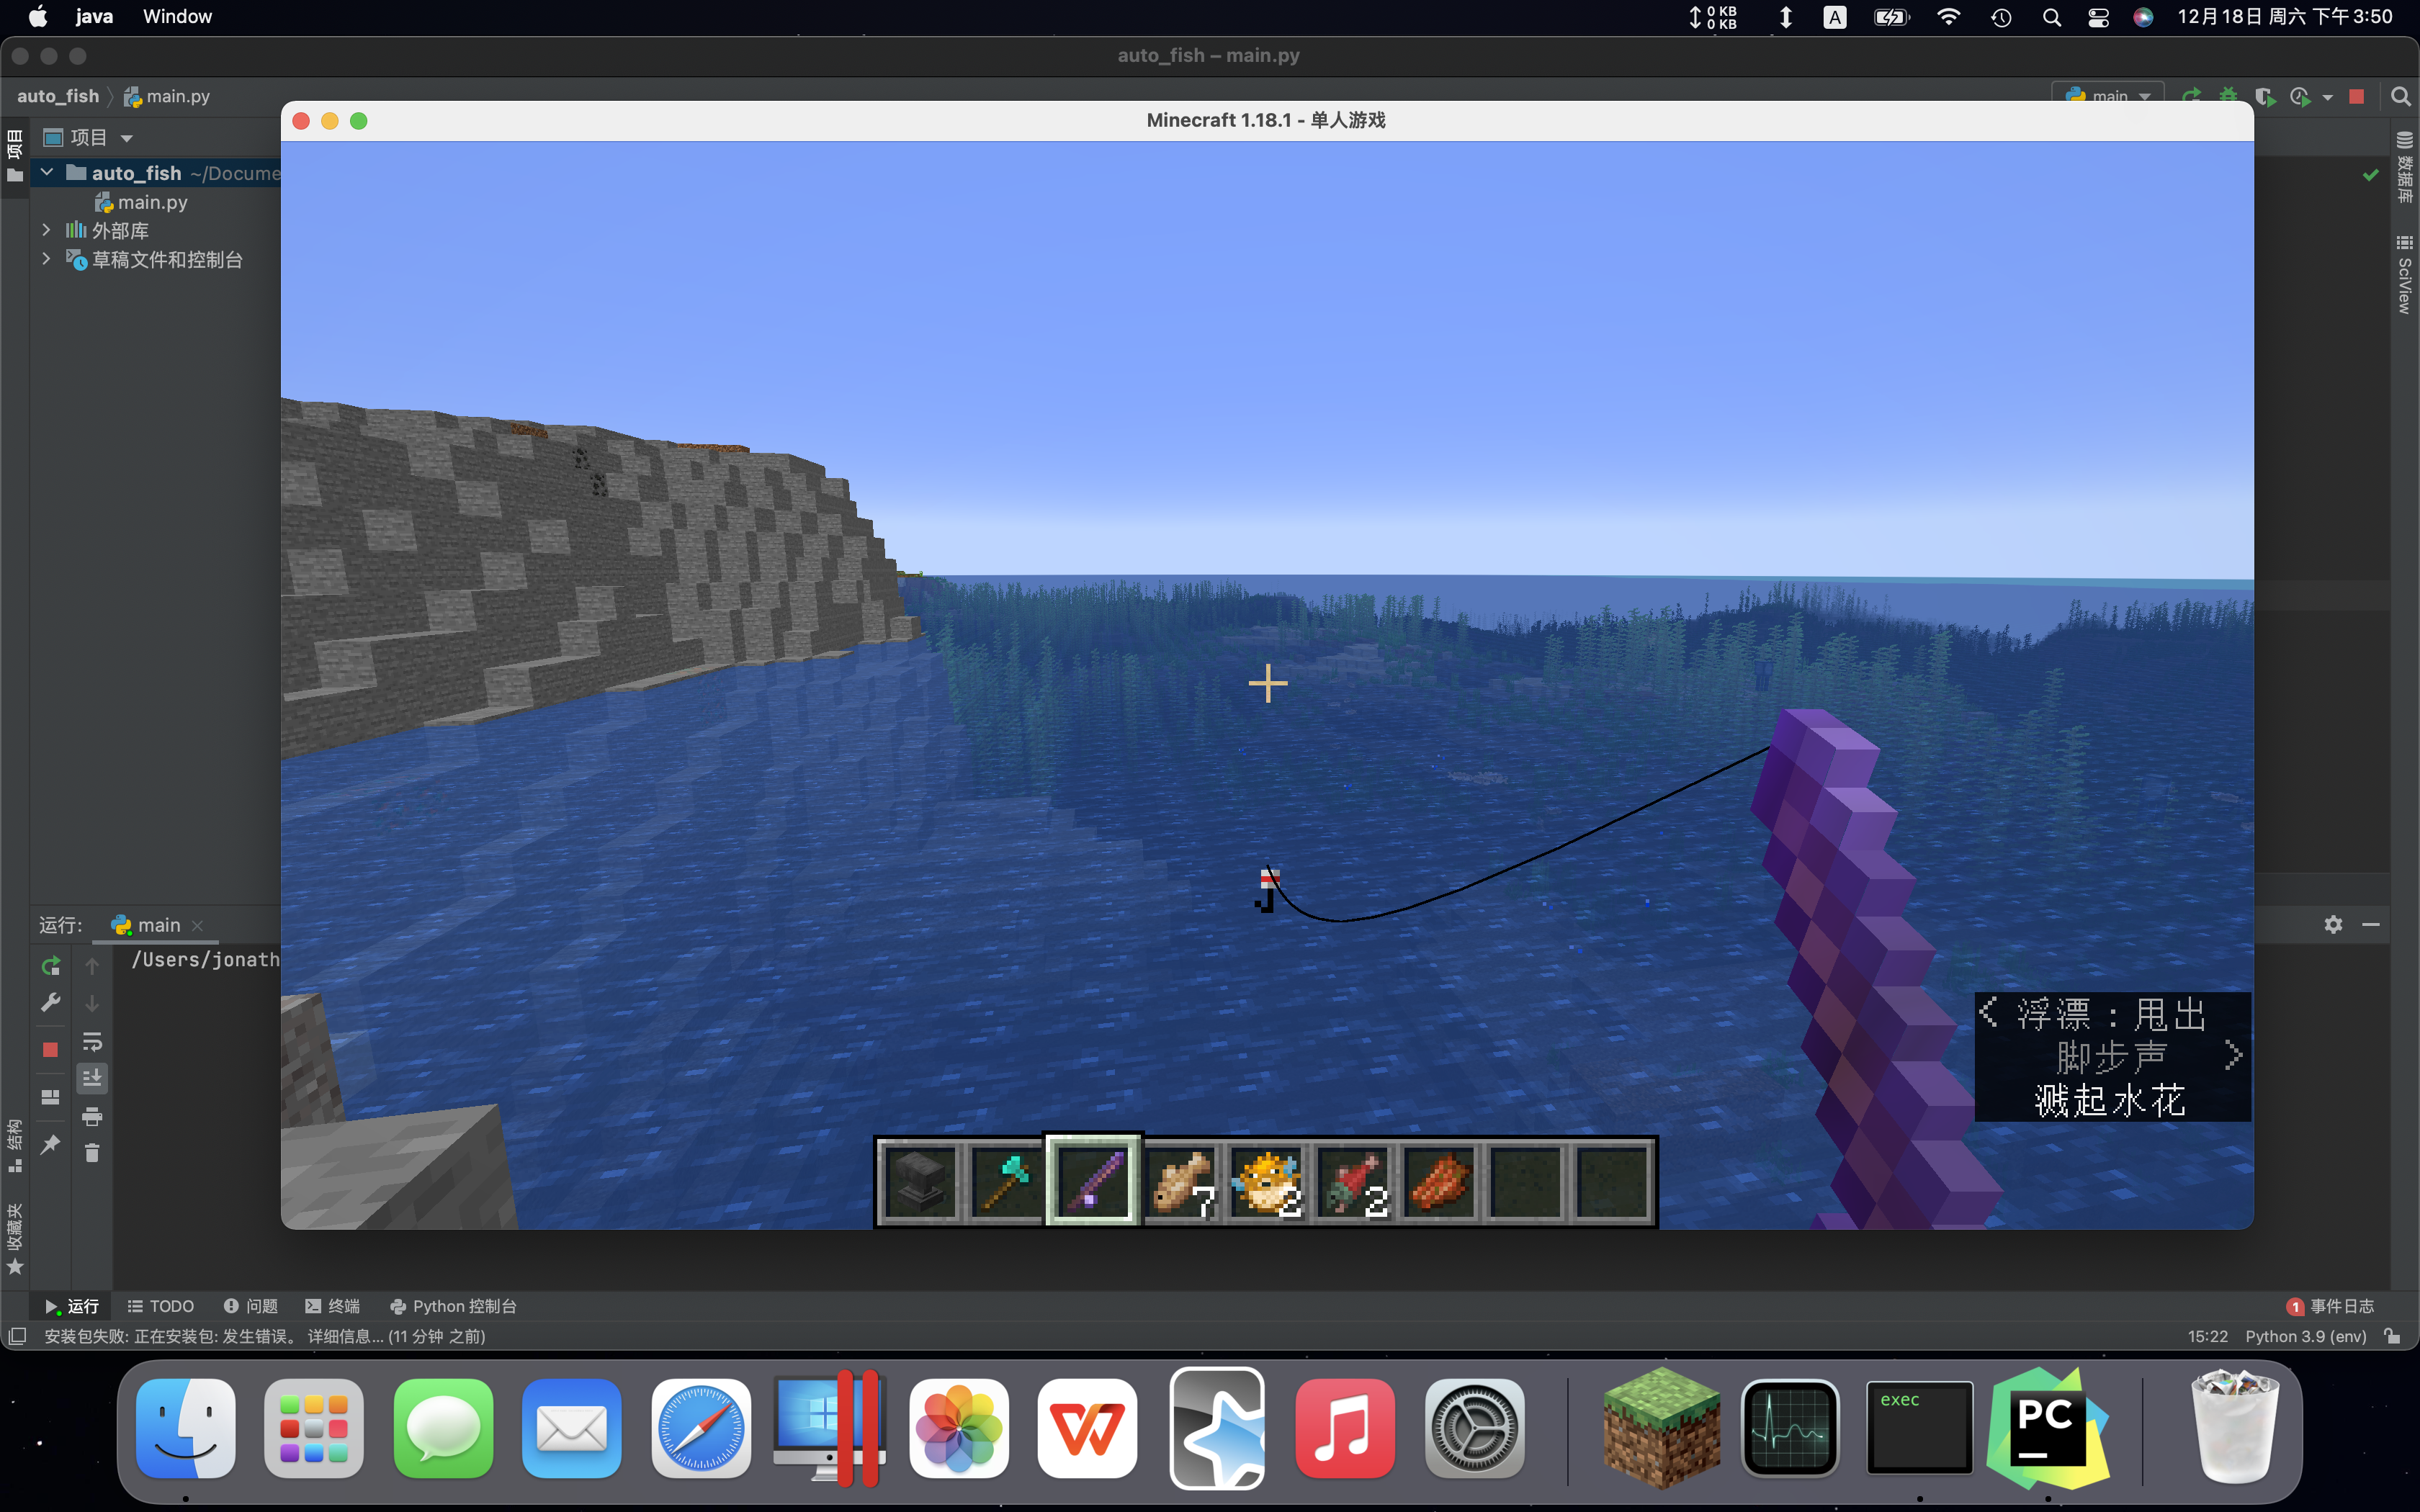inf: (1979, 988, 2253, 1117)
